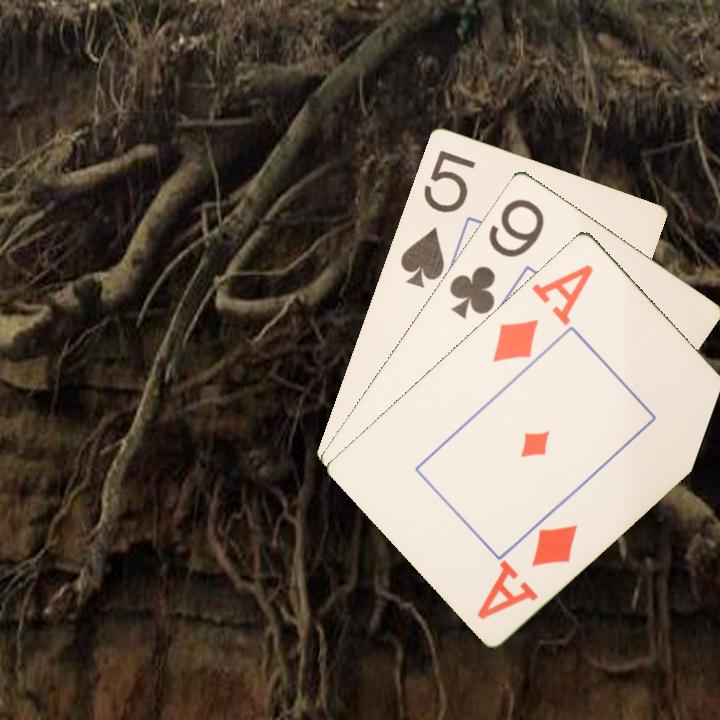5s: (396, 146, 478, 290)
9c: (445, 194, 547, 322)
Ad: (489, 260, 597, 365), (473, 520, 581, 622)
